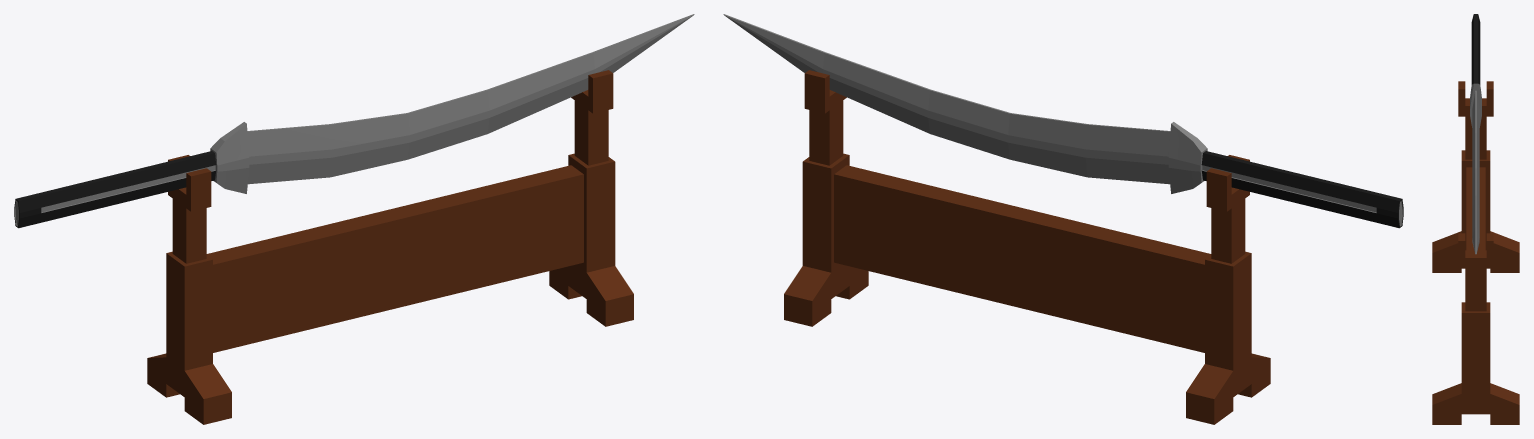
Rendered from Dagger.fbx.
The picture shows the model from 3 angles, left to right: view 1: azimuth 30°, elevation 25°; view 2: azimuth 150°, elevation 25°; view 3: azimuth 270°, elevation 25°; orthographic projection. The views are drawn at different scales.
Parts seen in each view (by area): view 1: Dagger; view 2: Dagger; view 3: Dagger.
Boxes of the visible parts, x1,y1,x2,y2 form: Dagger: (14, 14, 694, 424); Dagger: (723, 14, 1403, 424); Dagger: (1432, 14, 1519, 424).
Size of the model in its own units: 51.72 by 19.31 by 7.43.
